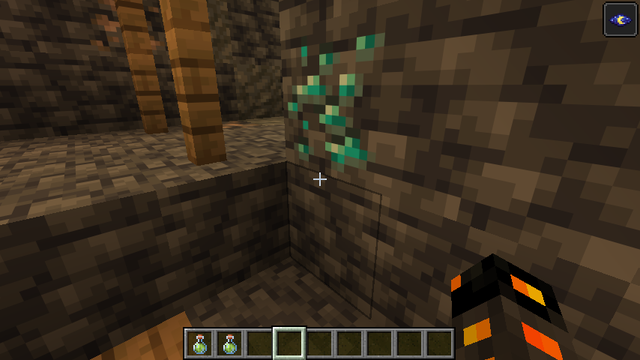diamond: (281, 32, 390, 178)
iron: (90, 1, 166, 51), (219, 117, 258, 132)
